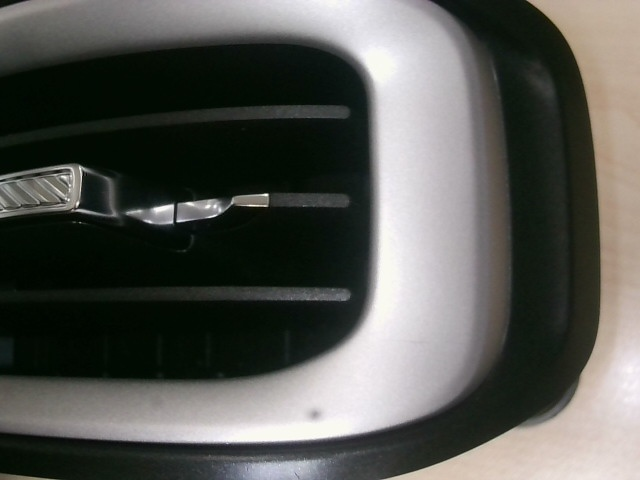NG: (374, 325, 454, 365)
